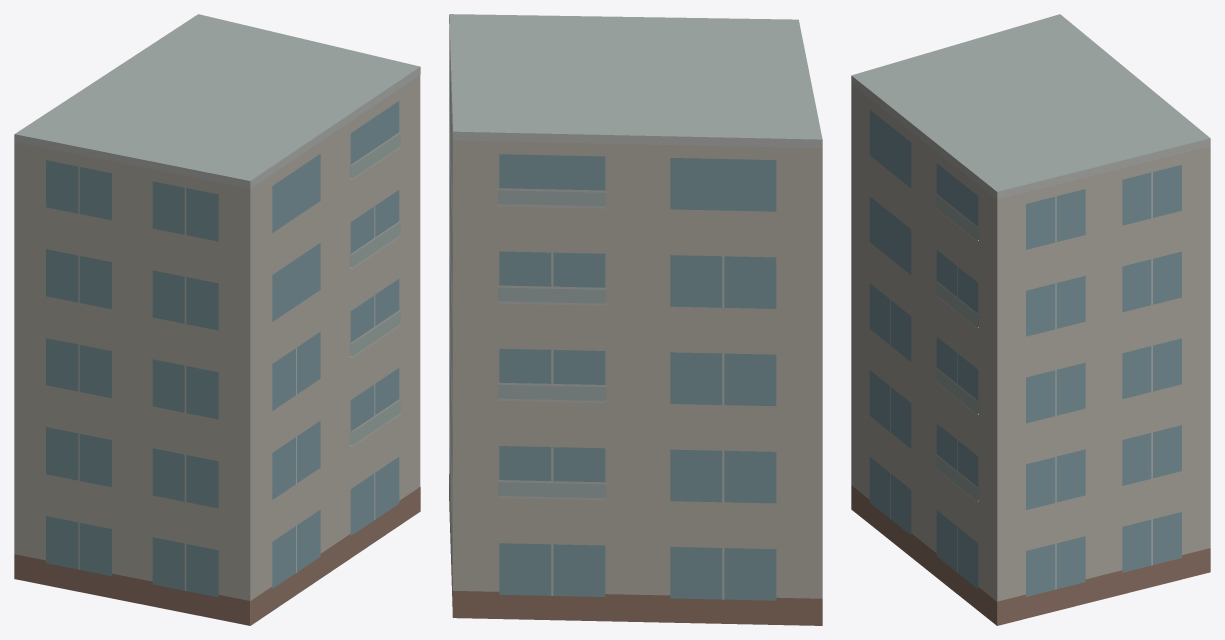
File: survey-upis-32745796.glb
3 views of the same model, side by side, from view 1: azimuth 30°, elevation 25°; view 2: azimuth 150°, elevation 25°; view 3: azimuth 270°, elevation 25° (orthographic). The views are drawn at different scales.
Parts seen in each view (by area): view 1: survey-upis-32745796.tmp; view 2: survey-upis-32745796.tmp; view 3: survey-upis-32745796.tmp.
Boxes of the visible parts, x1,y1,x2,y2 form: survey-upis-32745796.tmp: (14,14,420,625); survey-upis-32745796.tmp: (449,14,822,625); survey-upis-32745796.tmp: (851,14,1210,625).
Size of the model in its own units: 12.06 by 13.7 by 10.29.
